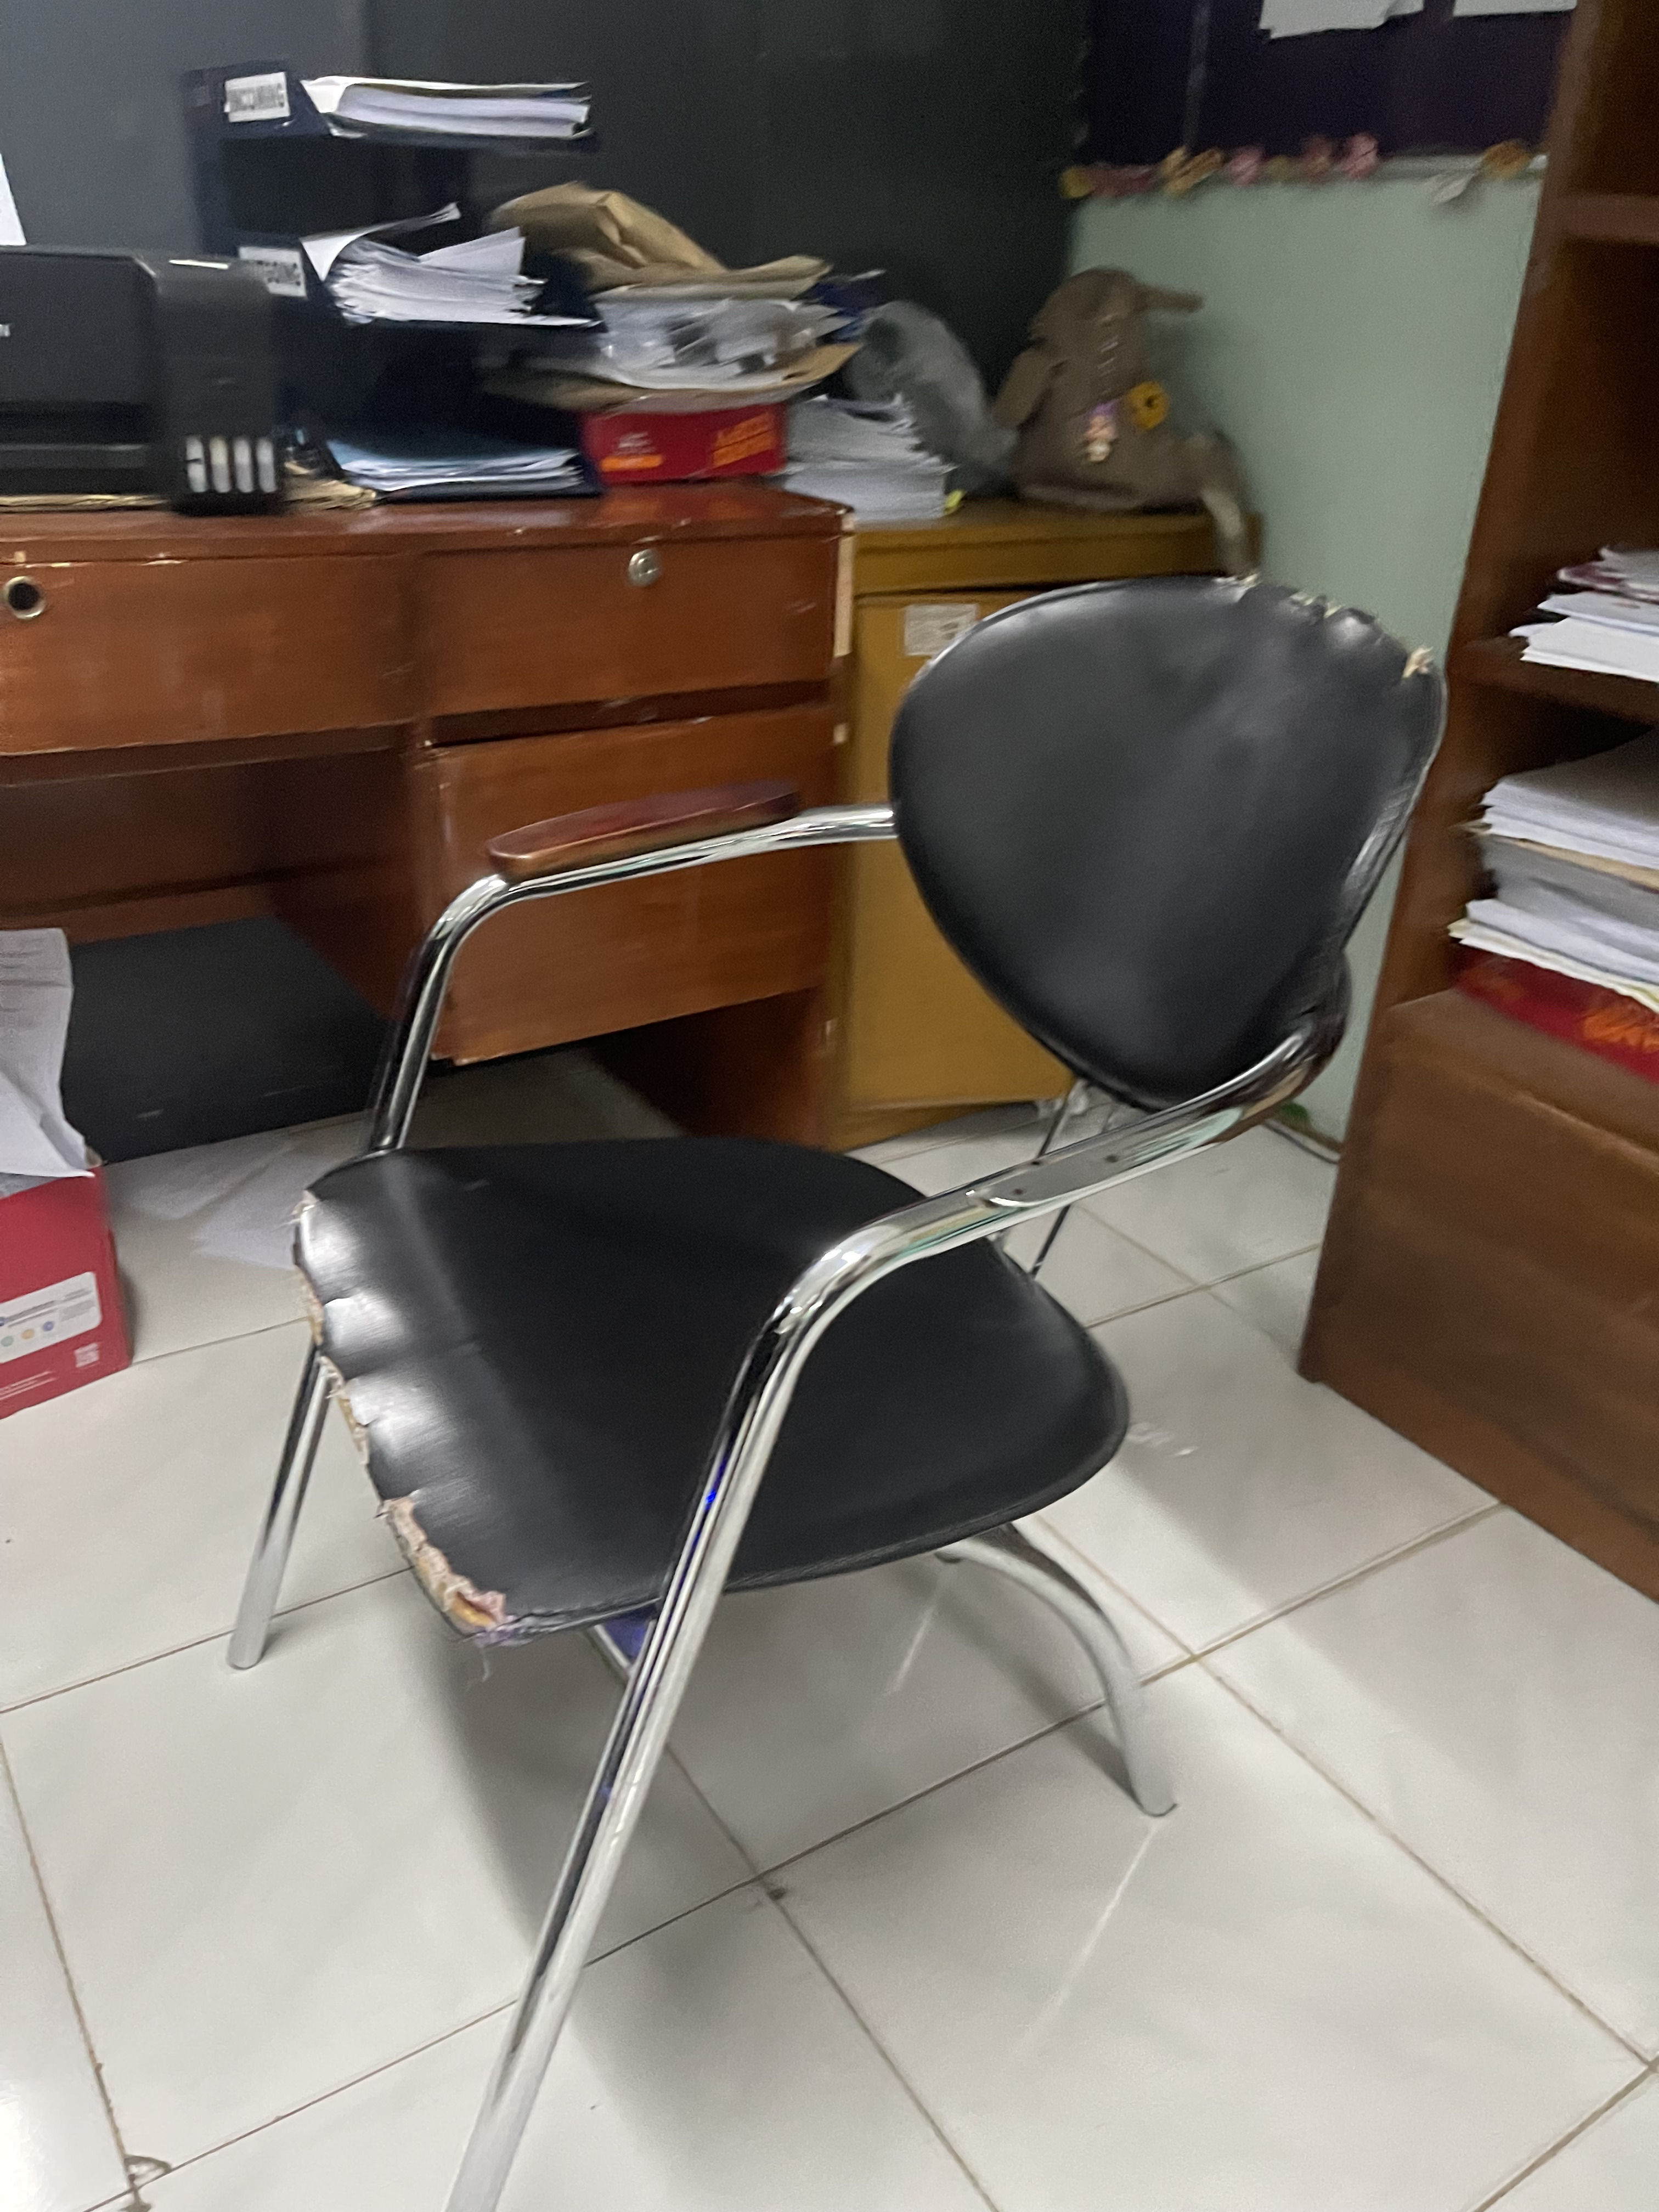chair1: (214, 571, 1459, 2212)
